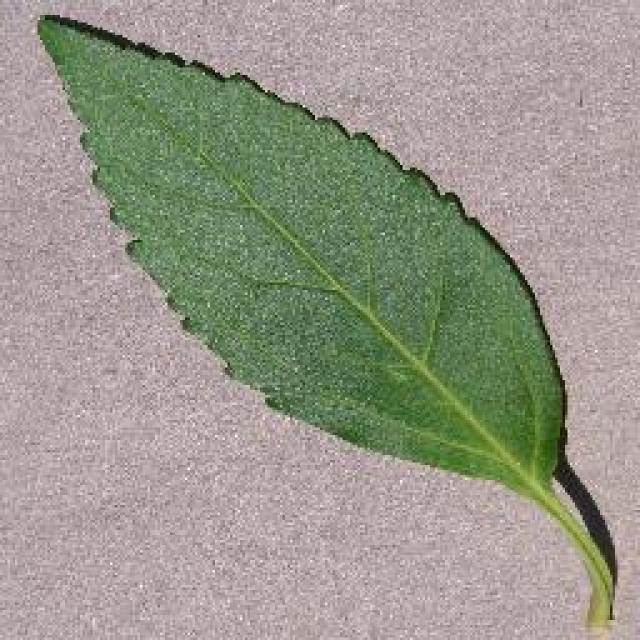Cherry___healthy: (25, 5, 623, 635)
